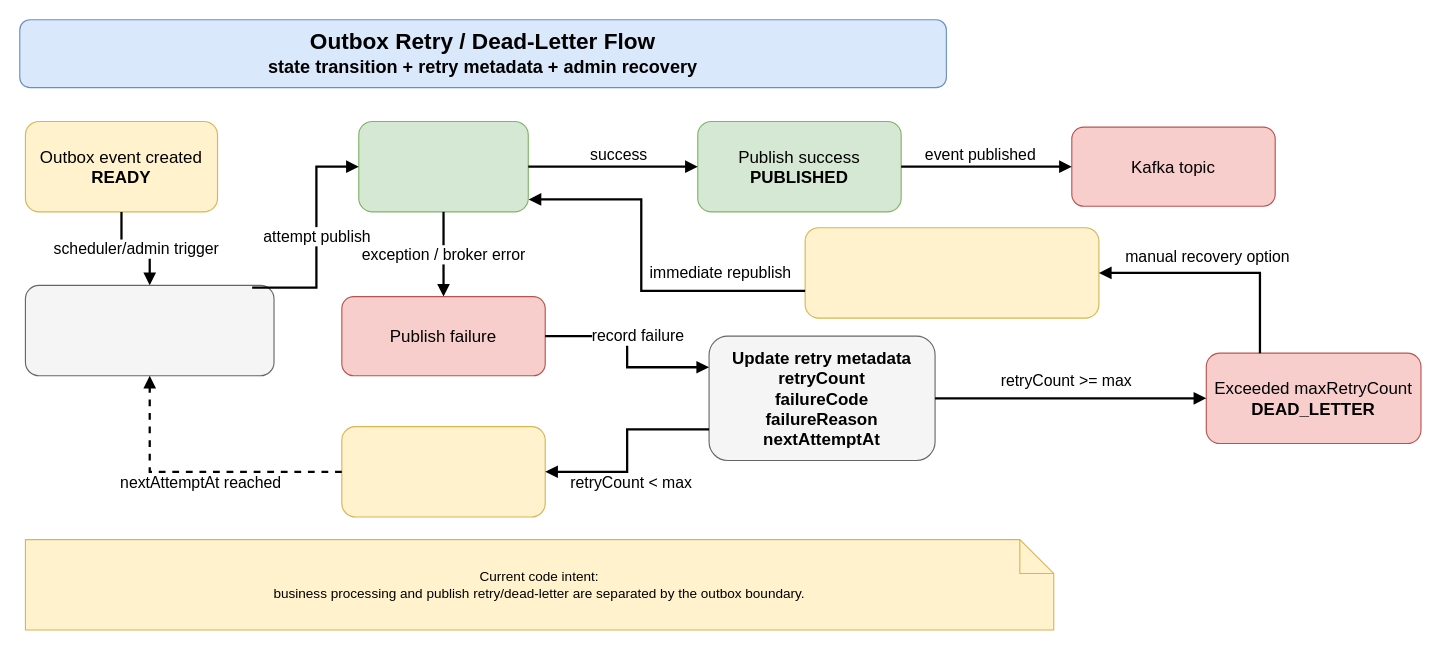
Image size: 1441x650. Some labels were removed from this diagram. The shapes that lost their labels are listed below. From the top down, each one's centre as x and y in pixels, then its label:
At (443,166): "Publish to Kafka".
At (951,272): "Admin retry API /api/admin/outbox-events/{id}/retry".
At (149,330): "Publisher selects event READY or RETRY_WAIT and nextAttemptAt passed".
At (443,471): "Retry again later RETRY_WAIT".
